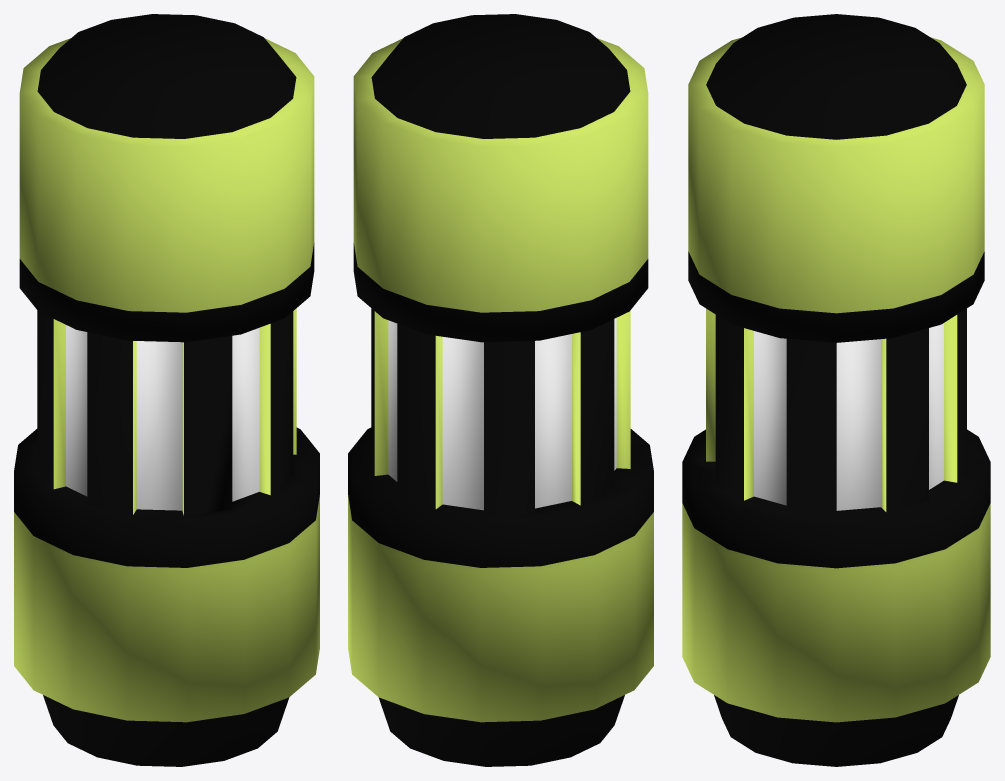
File: gasfbx.fbx
3 renders of one model, left to right at view 1: azimuth 30°, elevation 25°; view 2: azimuth 150°, elevation 25°; view 3: azimuth 270°, elevation 25°, orthographic.
Parts seen in each view (by area): view 1: Cylinder; view 2: Cylinder; view 3: Cylinder.
Boxes of the visible parts, x1,y1,x2,y2 form: Cylinder: (14,14,319,766); Cylinder: (348,14,653,766); Cylinder: (682,14,990,766).
Bounding box in the file's own units: 200 × 471 × 200.
